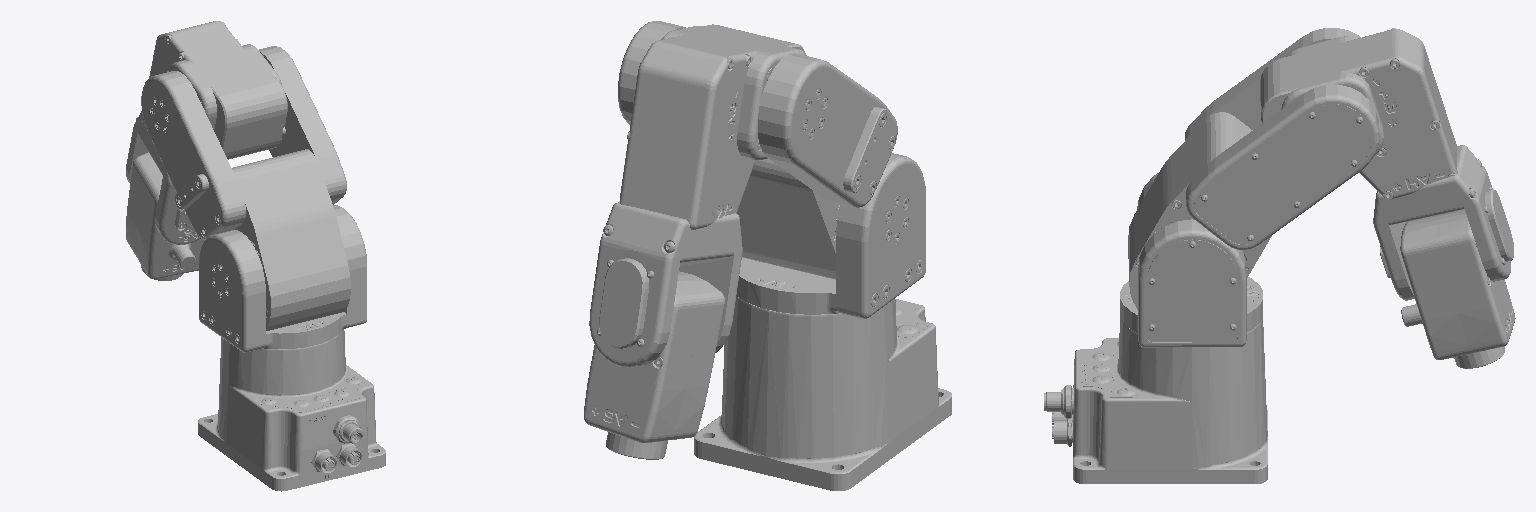
URDF robot description (meca500):
<?xml version="1.0" ?>
<!-- Generated using onshape-to-robot -->
<!-- Onshape https://cad.onshape.com/documents/3f7808e3432022d5b08177ae/w/13f89a95a237b65f6f12ec68/e/351cb02b91d61e28501e44e7 -->
<robot name="meca500">
  <!-- Link link_0__base -->
  <link name="link_0__base">
    <inertial>
      <origin xyz="-0.003588 -0.0202515 -0.0487122" rpy="0 0 0"/>
      <mass value="1.90904"/>
      <inertia ixx="0.00285533" ixy="3.86058e-06" ixz="1.52473e-07" iyy="0.00224755" iyz="-0.000252565" izz="0.00266554"/>
    </inertial>
    <!-- Part link_0__base -->
    <visual>
      <origin xyz="-0.0191622 -0.00975546 -0.00283954" rpy="1.5708 -0 -3.14159"/>
      <geometry>
        <mesh filename="package://mecha500_robot/meshes/link_0__base.stl"/>
      </geometry>
      <material name="link_0__base_material">
        <color rgba="0.74902 0.74902 0.74902 1"/>
      </material>
    </visual>
    <collision>
      <origin xyz="-0.0191622 -0.00975546 -0.00283954" rpy="1.5708 -0 -3.14159"/>
      <geometry>
        <mesh filename="package://mecha500_robot/meshes/link_0__base.stl"/>
      </geometry>
    </collision>
  </link>
  <!-- Link link_1 -->
  <link name="link_1">
    <inertial>
      <origin xyz="0.00334976 -5.73436e-05 -0.0215866" rpy="0 0 0"/>
      <mass value="0.497831"/>
      <inertia ixx="0.000473161" ixy="4.22411e-06" ixz="-1.09578e-05" iyy="0.000832194" iyz="-3.07932e-07" izz="0.000761939"/>
    </inertial>
    <!-- Part link_1 -->
    <visual>
      <origin xyz="0 0 -0.045" rpy="3.14159 0 1.56059"/>
      <geometry>
        <mesh filename="package://mecha500_robot/meshes/link_1.stl"/>
      </geometry>
      <material name="link_1_material">
        <color rgba="0.74902 0.74902 0.74902 1"/>
      </material>
    </visual>
    <collision>
      <origin xyz="0 0 -0.045" rpy="3.14159 0 1.56059"/>
      <geometry>
        <mesh filename="package://mecha500_robot/meshes/link_1.stl"/>
      </geometry>
    </collision>
  </link>
  <!-- Link link_2 -->
  <link name="link_2">
    <inertial>
      <origin xyz="0.0234559 0.0324928 -0.0323826" rpy="0 0 0"/>
      <mass value="1.74151"/>
      <inertia ixx="0.00391112" ixy="-0.00160445" ixz="4.42327e-05" iyy="0.00327463" iyz="5.2002e-05" izz="0.00432559"/>
    </inertial>
    <!-- Part link_2 -->
    <visual>
      <origin xyz="-0.00530816 -0.00968086 -0.032" rpy="-3.14159 0 0.856039"/>
      <geometry>
        <mesh filename="package://mecha500_robot/meshes/link_2.stl"/>
      </geometry>
      <material name="link_2_material">
        <color rgba="0.74902 0.74902 0.74902 1"/>
      </material>
    </visual>
    <collision>
      <origin xyz="-0.00530816 -0.00968086 -0.032" rpy="-3.14159 0 0.856039"/>
      <geometry>
        <mesh filename="package://mecha500_robot/meshes/link_2.stl"/>
      </geometry>
    </collision>
  </link>
  <!-- Link link_3 -->
  <link name="link_3">
    <inertial>
      <origin xyz="0.00637687 -0.0143165 -0.0310276" rpy="0 0 0"/>
      <mass value="1.00601"/>
      <inertia ixx="0.000985393" ixy="0.000189374" ixz="9.40101e-06" iyy="0.0007538" iyz="-1.11226e-05" izz="0.00122325"/>
    </inertial>
    <!-- Part link_3 -->
    <visual>
      <origin xyz="-0.155395 0.0992203 -0.0470431" rpy="2.13905 1.5708 0"/>
      <geometry>
        <mesh filename="package://mecha500_robot/meshes/link_3.stl"/>
      </geometry>
      <material name="link_3_material">
        <color rgba="0.74902 0.74902 0.74902 1"/>
      </material>
    </visual>
    <collision>
      <origin xyz="-0.155395 0.0992203 -0.0470431" rpy="2.13905 1.5708 0"/>
      <geometry>
        <mesh filename="package://mecha500_robot/meshes/link_3.stl"/>
      </geometry>
    </collision>
  </link>
  <!-- Link link_4 -->
  <link name="link_4">
    <inertial>
      <origin xyz="7.16922e-06 -0.000731017 -0.0296473" rpy="0 0 0"/>
      <mass value="0.319243"/>
      <inertia ixx="0.000307803" ixy="-1.8448e-08" ixz="-6.729e-09" iyy="0.000187145" iyz="-3.44011e-06" izz="0.00021562"/>
    </inertial>
    <!-- Part link_4 -->
    <visual>
      <origin xyz="4.4e-06 0 -0.059" rpy="3.14159 -0 0"/>
      <geometry>
        <mesh filename="package://mecha500_robot/meshes/link_4.stl"/>
      </geometry>
      <material name="link_4_material">
        <color rgba="0.74902 0.74902 0.74902 1"/>
      </material>
    </visual>
    <collision>
      <origin xyz="4.4e-06 0 -0.059" rpy="3.14159 -0 0"/>
      <geometry>
        <mesh filename="package://mecha500_robot/meshes/link_4.stl"/>
      </geometry>
    </collision>
  </link>
  <!-- Link link_5 -->
  <link name="link_5">
    <inertial>
      <origin xyz="2.54851e-06 -0.020511 -0.023743" rpy="0 0 0"/>
      <mass value="0.447067"/>
      <inertia ixx="0.000325043" ixy="-2.2551e-08" ixz="8.77e-09" iyy="0.000149997" iyz="-9.46566e-06" izz="0.000314979"/>
    </inertial>
    <!-- Part link_5 -->
    <visual>
      <origin xyz="-0.222375 0.12 -0.0397931" rpy="1.5708 1.5708 0"/>
      <geometry>
        <mesh filename="package://mecha500_robot/meshes/link_5.stl"/>
      </geometry>
      <material name="link_5_material">
        <color rgba="0.74902 0.74902 0.74902 1"/>
      </material>
    </visual>
    <collision>
      <origin xyz="-0.222375 0.12 -0.0397931" rpy="1.5708 1.5708 0"/>
      <geometry>
        <mesh filename="package://mecha500_robot/meshes/link_5.stl"/>
      </geometry>
    </collision>
  </link>
  <!-- Link link_6__flange -->
  <link name="link_6__flange">
    <inertial>
      <origin xyz="-5.182e-09 -3.0509e-06 -0.00515374" rpy="0 0 0"/>
      <mass value="0.00865395"/>
      <inertia ixx="3.06713e-07" ixy="0" ixz="-0" iyy="2.99295e-07" iyz="-1.22e-10" izz="4.44177e-07"/>
    </inertial>
    <!-- Part link_6__flange -->
    <visual>
      <origin xyz="-0.0763536 -0.0515492 0.158594" rpy="3.14159 0 0"/>
      <geometry>
        <mesh filename="package://mecha500_robot/meshes/link_6__flange.stl"/>
      </geometry>
      <material name="link_6__flange_material">
        <color rgba="0.74902 0.74902 0.74902 1"/>
      </material>
    </visual>
    <collision>
      <origin xyz="-0.0763536 -0.0515492 0.158594" rpy="3.14159 0 0"/>
      <geometry>
        <mesh filename="package://mecha500_robot/meshes/link_6__flange.stl"/>
      </geometry>
    </collision>
  </link>
  <!-- Joint from link_5 to link_6__flange -->
  <joint name="joint6" type="revolute">
    <origin xyz="2.2e-06 -0.059 -0.02425" rpy="1.5708 0.00776461 3.14159"/>
    <parent link="link_5"/>
    <child link="link_6__flange"/>
    <axis xyz="0 0 1"/>
    <limit effort="1.5" velocity="8.7266" lower="-628.318" upper="628.318"/>
    <joint_properties friction="0.0"/>
  </joint>
  <!-- Joint from link_4 to link_5 -->
  <joint name="joint5" type="revolute">
    <origin xyz="4.4e-06 -0.0245 -0.059" rpy="1.5708 0.0574563 -0"/>
    <parent link="link_4"/>
    <child link="link_5"/>
    <axis xyz="0 0 1"/>
    <limit effort="2.5" velocity="6.1087" lower="-2.0071" upper="2.0071"/>
    <joint_properties friction="0.0"/>
  </joint>
  <!-- Joint from link_3 to link_4 -->
  <joint name="joint4" type="revolute">
    <origin xyz="0.00296752 -0.0659636 -0.0315" rpy="-1.5708 1.44617 -0.56825"/>
    <parent link="link_3"/>
    <child link="link_4"/>
    <axis xyz="0 0 1"/>
    <limit effort="2.5" velocity="6.1087" lower="-2.9671" upper="2.9671"/>
    <joint_properties friction="0.0"/>
  </joint>
  <!-- Joint from link_2 to link_3 -->
  <joint name="joint3" type="revolute">
    <origin xyz="0.0831754 0.0922782 -0" rpy="0 0 0.856039"/>
    <parent link="link_2"/>
    <child link="link_3"/>
    <axis xyz="0 0 1"/>
    <limit effort="16.6" velocity="3.927" lower="-2.3562" upper="1.2217"/>
    <joint_properties friction="0.0"/>
  </joint>
  <!-- Joint from link_1 to link_2 -->
  <joint name="joint2" type="revolute">
    <origin xyz="-0.0324983 0.000331735 -0.045" rpy="-1.5708 0 1.56059"/>
    <parent link="link_1"/>
    <child link="link_2"/>
    <axis xyz="0 0 1"/>
    <limit effort="16.6" velocity="3.927" lower="-1.2217" upper="1.5708"/>
    <joint_properties friction="0.0"/>
  </joint>
  <!-- Joint from link_0__base to link_1 -->
  <joint name="joint1" type="revolute">
    <origin xyz="-0.00361915 -0.00975546 0.00153062" rpy="-3.14159 -0 -3.14159"/>
    <parent link="link_0__base"/>
    <child link="link_1"/>
    <axis xyz="0 0 1"/>
    <limit effort="16.6" velocity="3.927" lower="-3.0543" upper="3.0543"/>
    <joint_properties friction="0.0"/>
  </joint>
</robot>

--- What the picture shows (computed from the rendered views, not written in the file) ---
The picture shows the robot from 3 angles, left to right: view 1: azimuth 30°, elevation 25°; view 2: azimuth 150°, elevation 25°; view 3: azimuth 270°, elevation 25°; orthographic projection.
Robot: meca500 — 7 links, 6 joints (6 revolute); root link link_0__base; default pose: all joints at 0.
Visible links, largest first — view 1: link_2, link_0__base, link_3, link_1, link_5, link_4; view 2: link_0__base, link_2, link_3, link_4, link_1, link_5; view 3: link_0__base, link_2, link_3, link_1, link_5, link_4.
Link boxes in pixels (x1,y1,x2,y2): link_2: (141,46,350,330); link_0__base: (198,330,385,491); link_3: (142,21,287,159); link_1: (199,205,366,352); link_5: (126,152,204,280); link_4: (126,111,200,244); link_0__base: (694,296,951,490); link_2: (618,21,897,279); link_3: (618,24,806,229); link_4: (589,203,742,367); link_1: (736,153,925,318); link_5: (584,271,724,459); link_0__base: (1044,318,1267,483); link_2: (1128,28,1378,309); link_3: (1260,28,1457,199); link_1: (1120,173,1262,347); link_5: (1400,209,1515,368); link_4: (1373,145,1513,300).
Size in the robot's own frame: 0.1069 by 0.2785 by 0.2668 metres.
7 mesh visuals loaded from 7 distinct referenced files (7 binary STL).
